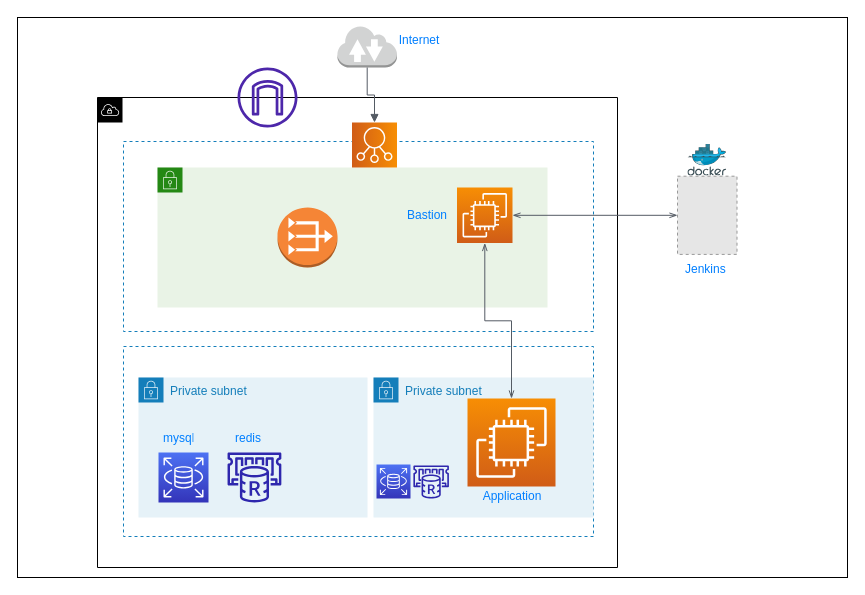
The diagram is 865 pixels wide and 595 high, and some of its shapes have lost their labels. Grey dashed boxes stand in for pictures. The box of each missing label's shape, as (x1, y1, x2, y2) in pixels:
Public subnet: (156, 166, 548, 308)
VPC: (96, 96, 618, 568)
